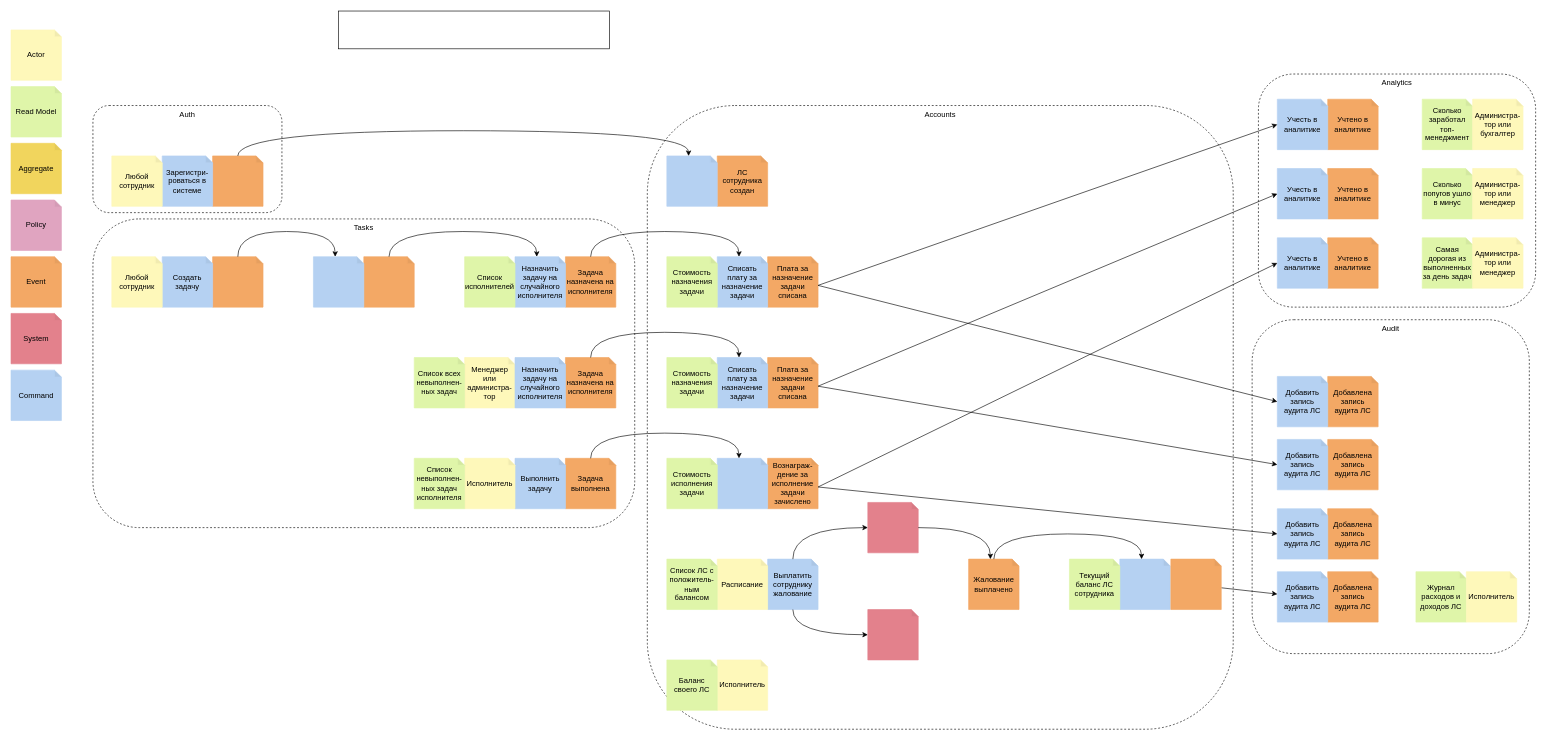
The diagram is 1547 pixels wide and 740 high, and some of its shapes have lost their labels. Each missing label, with the centre of its shape:
Баланс ЛС сотрудника уменьшен: pixel 1195 584
Задача создана: pixel 237 281
Задаче назначена стоимость назначения и исполнения: pixel 388 281
Зачислить вознаграж-дение за исполнение задачи: pixel 742 483
Исполнитель = не менеджер & не администратор & не бухгалтер: pixel 474 29
Оценить задачу: pixel 338 281
Платежная система: pixel 892 527
Почтовый сервер: pixel 892 634
Создать ЛС сотрудника: pixel 691 180
Сотрудник зарегисти-рован: pixel 237 180
Уменьшить баланс ЛС сотрудника на сумму выплаты: pixel 1144 584
